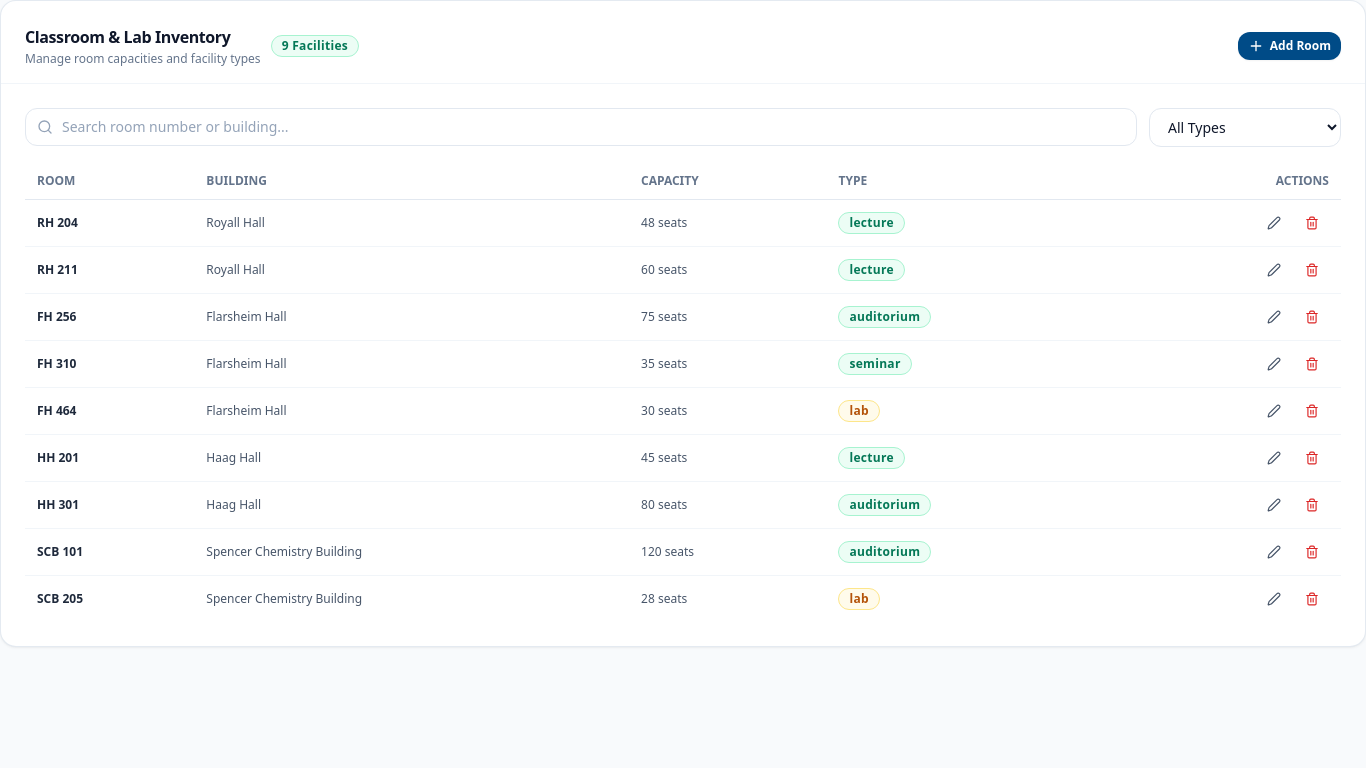
Scenario: RoomManager Component › renders room inventory and filters by room type
Expected: the text "RH 204" is shown, [25,200,194,246]
Expected: the text "FH 464" is shown, [25,388,194,434]
Select "Lab" in the dropdown with test id "room-type-filter" at [1245, 128], box [1149,108,1341,147]
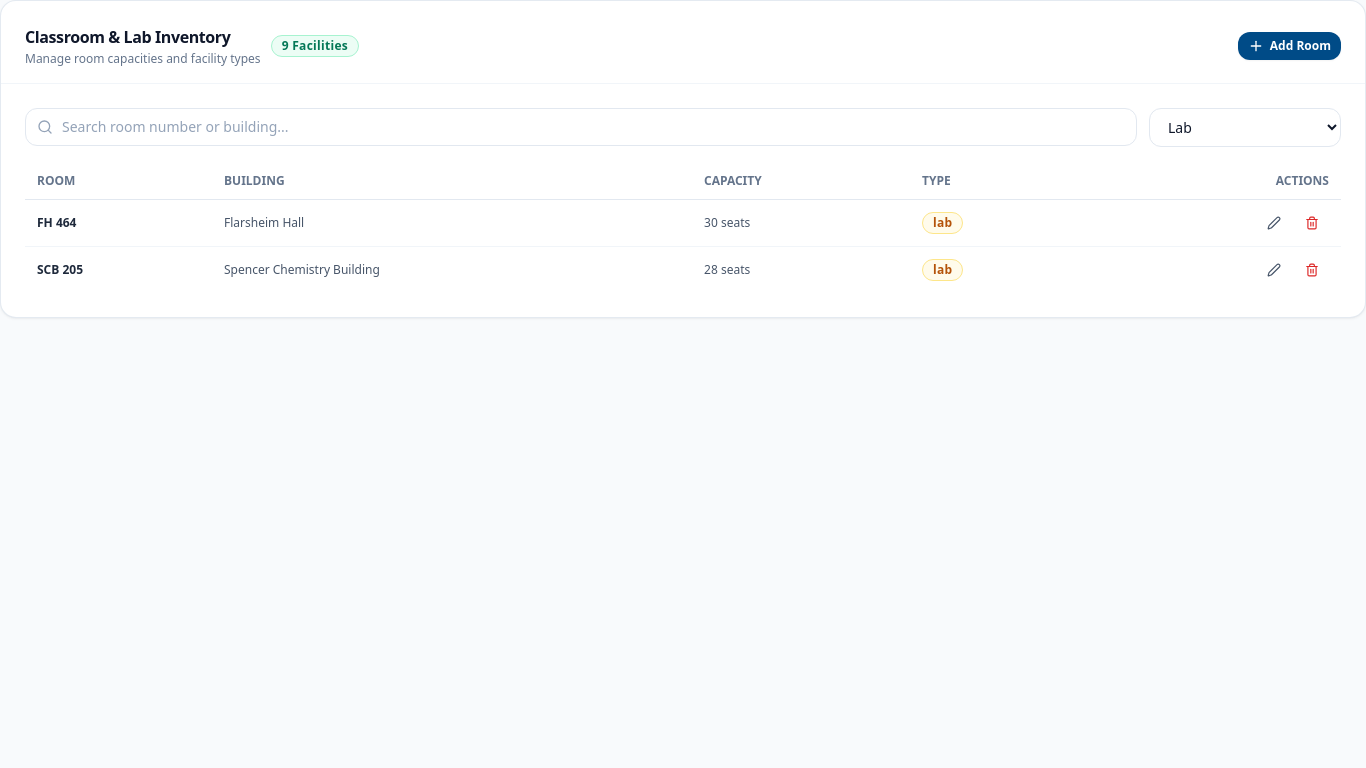
Expected: the text "FH 464" is shown, [25,200,212,246]
Now the text "RH 204" is gone
